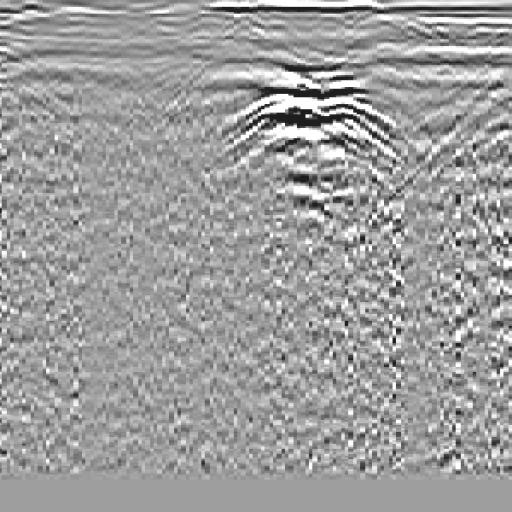metalic: (213, 42, 419, 260)
